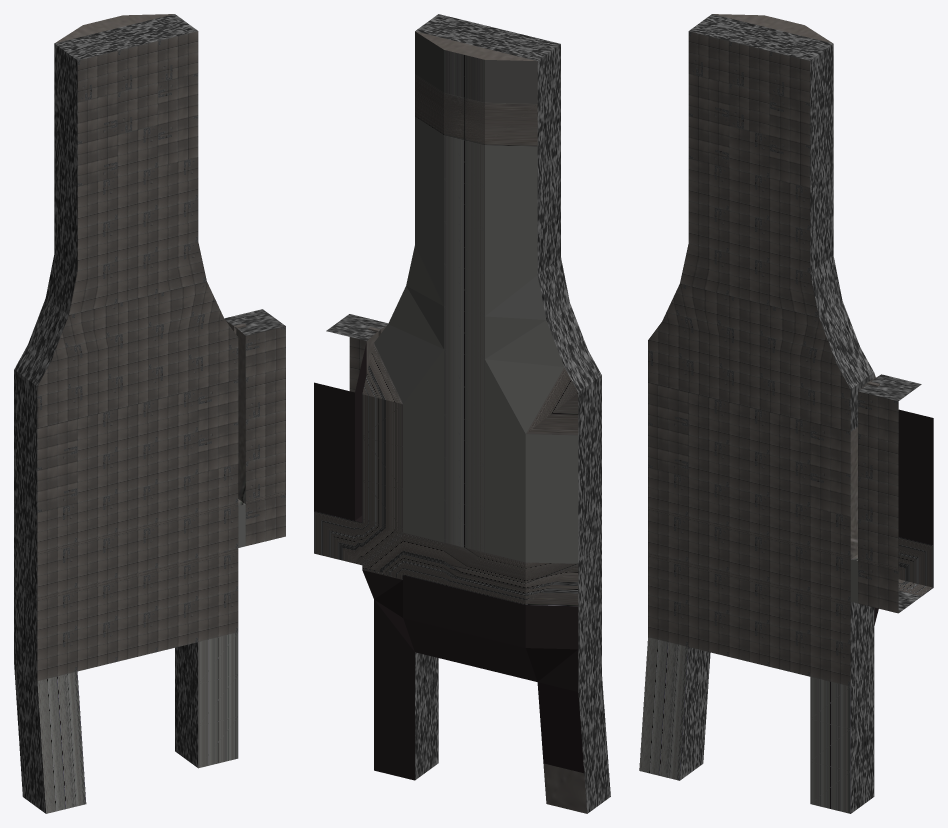
The model's file is station.dae.
The picture shows the model from 3 angles, left to right: view 1: azimuth 30°, elevation 25°; view 2: azimuth 150°, elevation 25°; view 3: azimuth 330°, elevation 25°; orthographic projection.
Parts seen in each view (by area): view 1: Cube; view 2: Cube; view 3: Cube.
Boxes of the visible parts, <box> form: Cube: <box>14,14,285,813</box>; Cube: <box>314,14,610,813</box>; Cube: <box>639,14,933,813</box>.
Bounding box in the file's own units: 12.36 × 3.75 × 35.04.
Materials: 2 (2 with a texture image).
